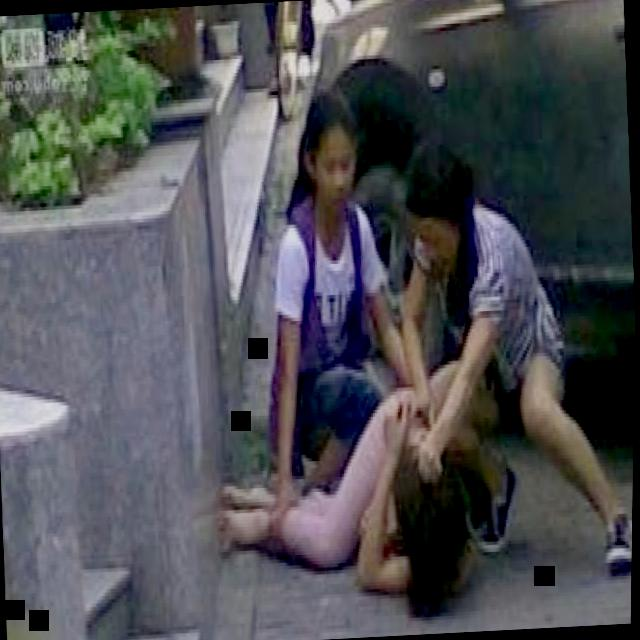Fall-Detected: (210, 373, 490, 598)
